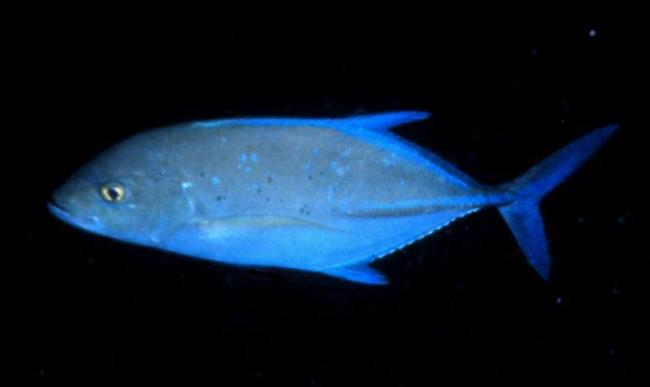fish: (49, 111, 620, 286)
